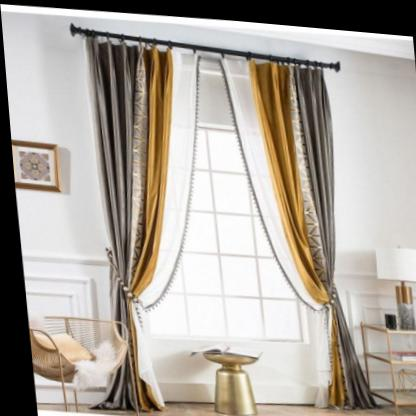Curtains: (71, 18, 369, 416)
